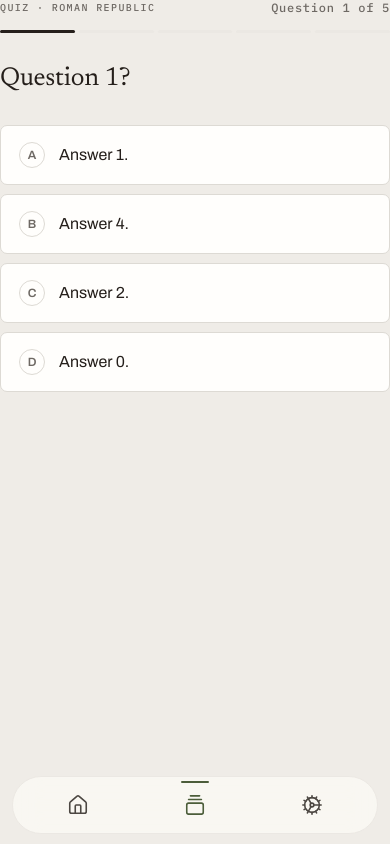
Test: Home, tapped while already home › leaves a quiz only through its own question, never by reloading
The width and height of the screenshot is (390, 844).
Click the button "A Answer 1.".
click(94, 154)  # box [0,125,389,185]
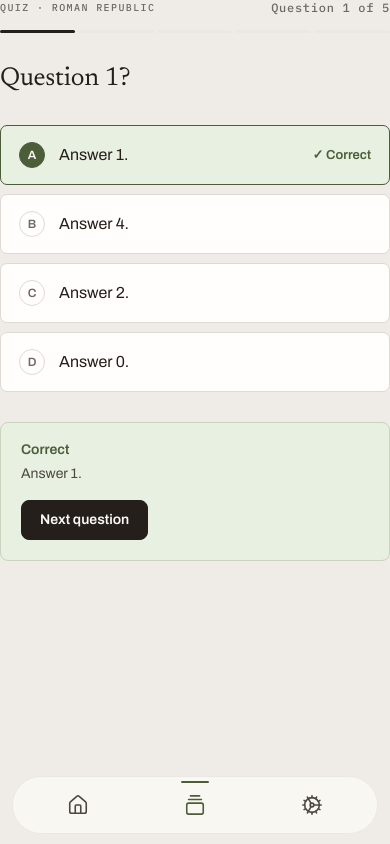
Click the 1st link named "Home".
click(92, 809)  # box [67,794,118,824]
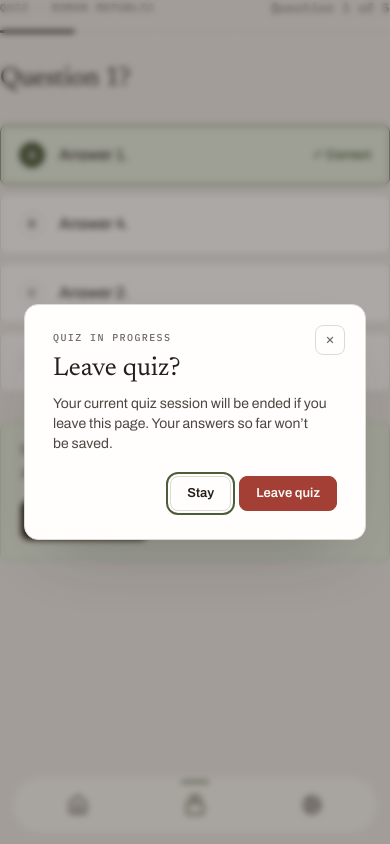
Expected: the dialog "Leave quiz?" is shown, [24,304,366,540]
